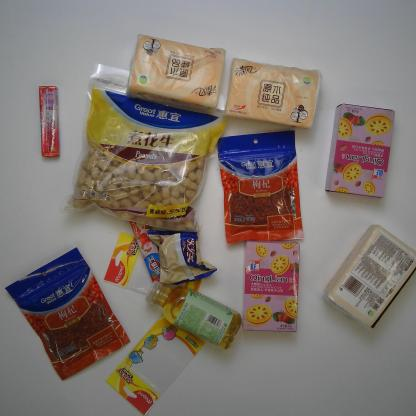Candy: (120, 212, 168, 288), (35, 83, 69, 158)
Dessert: (322, 101, 400, 203), (237, 236, 305, 336), (145, 224, 218, 288)
Dried Food: (58, 61, 230, 235)
Dried Fruit: (3, 245, 132, 385), (214, 130, 308, 248)
Drink: (137, 278, 246, 353)
Stationery: (106, 310, 206, 416), (101, 230, 205, 308)
Tissue: (321, 215, 416, 335), (123, 30, 233, 110), (220, 54, 328, 131)
